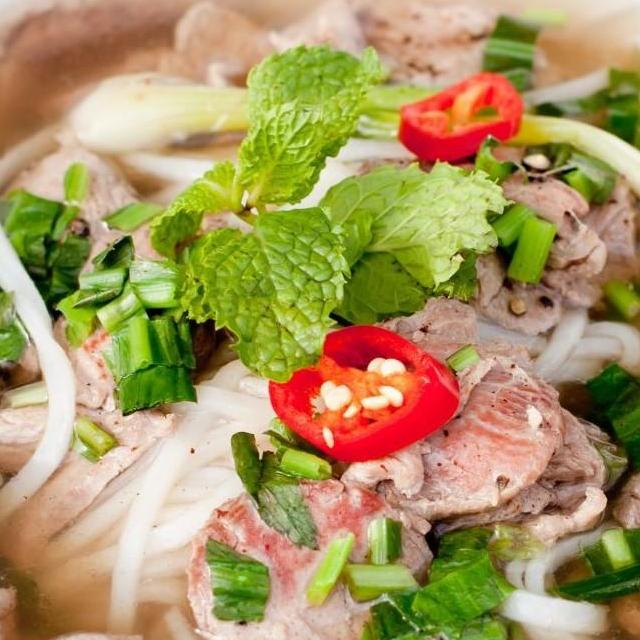banh pho: (6, 309, 317, 640), (443, 513, 632, 640), (492, 296, 640, 452)
pho bo: (0, 0, 640, 640)
thit bo: (325, 297, 639, 564), (182, 465, 487, 640), (123, 0, 514, 118), (455, 138, 639, 345)
